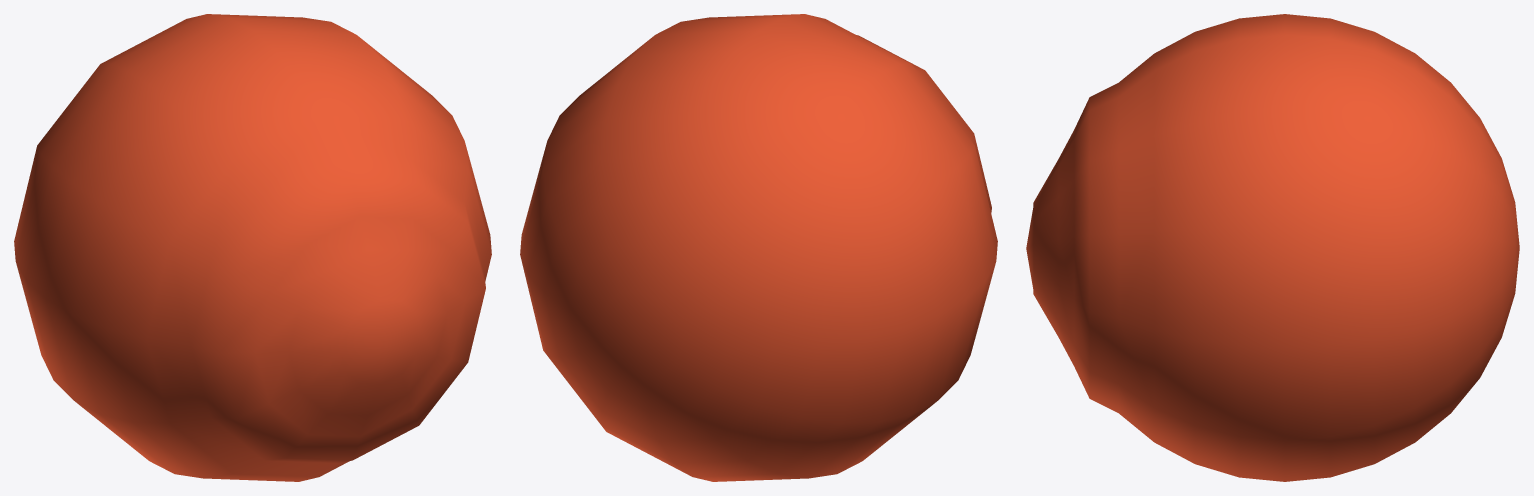
Rendered from eyeGLTF.gltf.
The picture shows the model from 3 angles, left to right: view 1: azimuth 30°, elevation 25°; view 2: azimuth 150°, elevation 25°; view 3: azimuth 270°, elevation 25°; orthographic projection.
Parts seen in each view (by area): view 1: okoSenca; view 2: okoSenca; view 3: okoSenca.
Part boxes in pixels (bbox=[...]): okoSenca: bbox=[14, 14, 491, 481]; okoSenca: bbox=[520, 14, 997, 481]; okoSenca: bbox=[1026, 14, 1519, 481].
Size of the model in its own units: 4.83 by 4.83 by 5.07.
